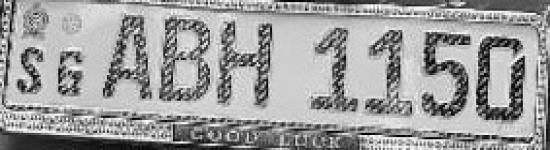0: (475, 30, 530, 133)
1: (302, 22, 362, 113), (365, 28, 414, 120)
5: (417, 25, 475, 126)
A: (98, 11, 152, 102)
B: (156, 13, 213, 107)
G: (50, 47, 90, 100)
H: (213, 19, 280, 109)
S: (16, 43, 49, 97)
